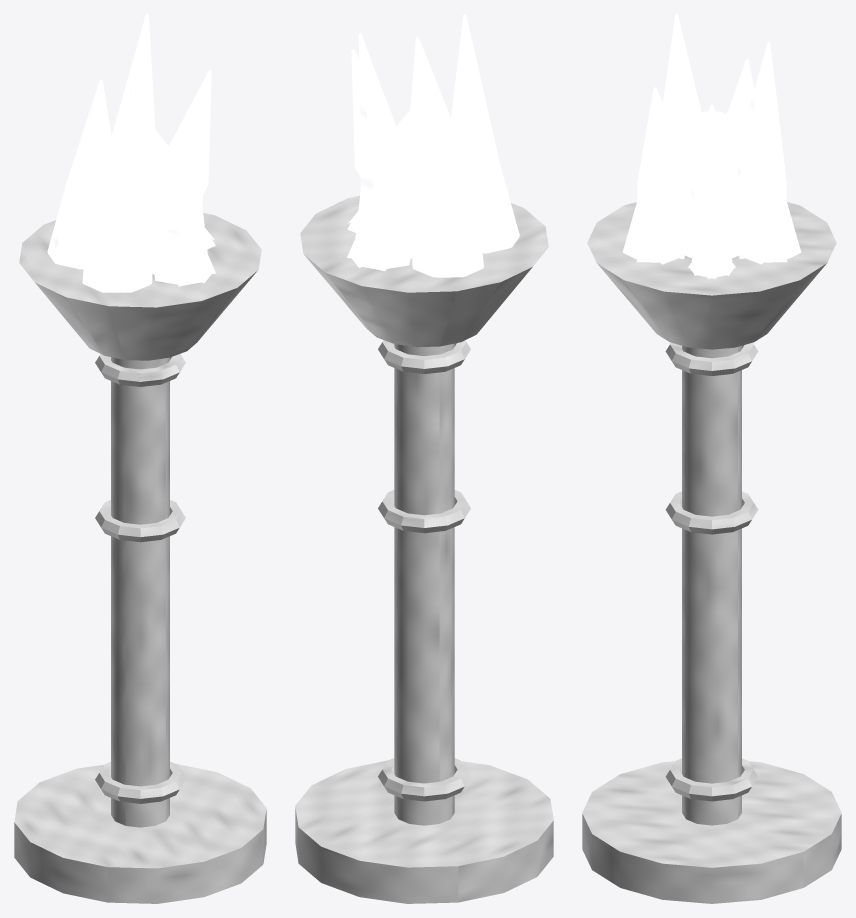
The model's file is standing_torch.glb.
3 views of the same model, side by side, from view 1: azimuth 30°, elevation 25°; view 2: azimuth 150°, elevation 25°; view 3: azimuth 270°, elevation 25° (orthographic). The views are drawn at different scales.
Parts seen in each view (by area): view 1: standing_torch; view 2: standing_torch; view 3: standing_torch.
Boxes of the visible parts, x1,y1,x2,y2 form: standing_torch: (14,14,266,903); standing_torch: (295,14,553,903); standing_torch: (582,14,841,903).
Bounding box in the file's own units: 0.52 × 1.82 × 0.52.
4 materials, 4 textured.
